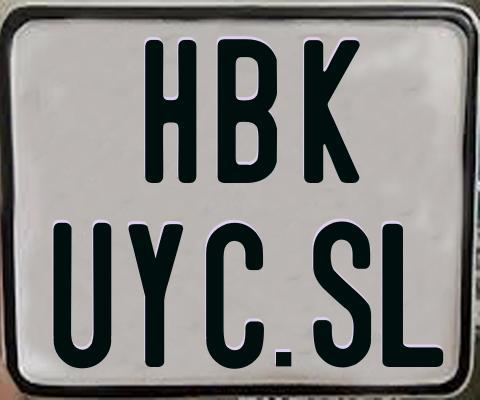B: (217, 38, 281, 184)
C: (203, 221, 263, 370)
H: (144, 37, 196, 186)
K: (302, 40, 363, 183)
L: (381, 224, 446, 368)
S: (310, 221, 368, 371)
U: (50, 223, 109, 372)
Y: (126, 223, 187, 371)
